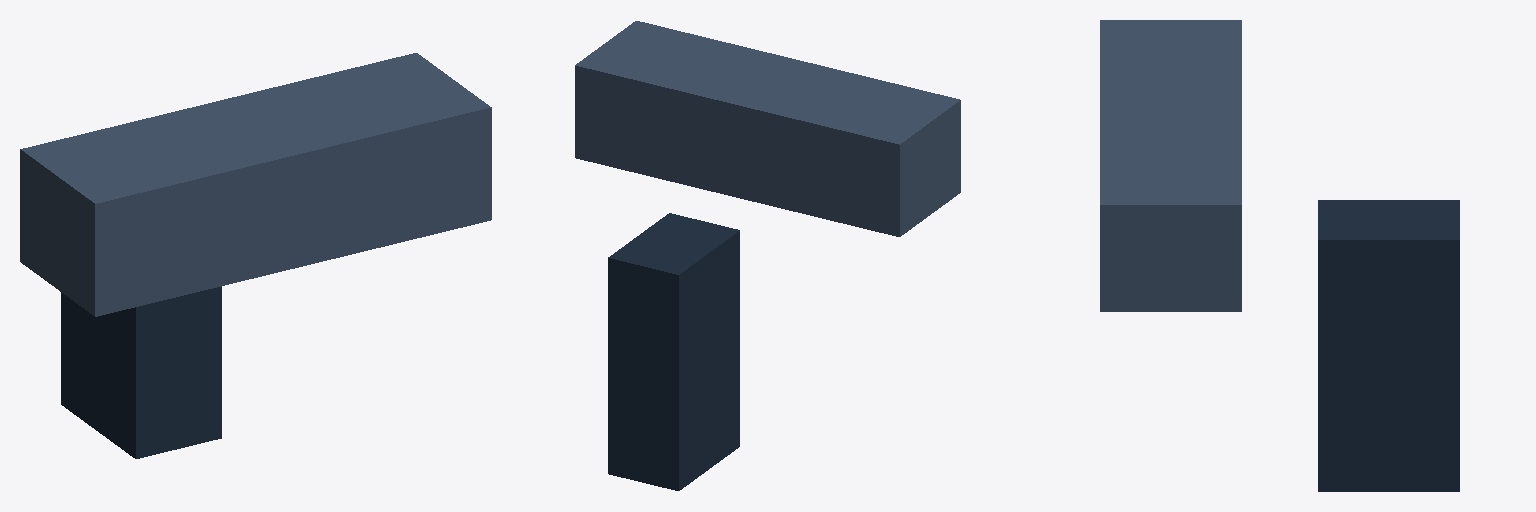
The robot description file, URDF, robot "cartesian_gripper":
<?xml version="1.0"?>
<robot name="cartesian_gripper">
  <material name="steel"><color rgba="0.32 0.39 0.47 1"/></material>
  <material name="finger"><color rgba="0.18 0.24 0.31 1"/></material>
  <link name="base"/>
  <link name="x_link"/>
  <joint name="x" type="prismatic"><parent link="base"/><child link="x_link"/><axis xyz="1 0 0"/><limit lower="-0.38" upper="0.38" effort="100" velocity="0.25"/></joint>
  <link name="y_link"/>
  <joint name="y" type="prismatic"><parent link="x_link"/><child link="y_link"/><axis xyz="0 1 0"/><limit lower="-0.26" upper="0.26" effort="100" velocity="0.25"/></joint>
  <link name="carriage"><visual><origin xyz="0 -0.055 0.065"/><geometry><box size="0.11 0.036 0.03"/></geometry><material name="steel"/></visual></link>
  <joint name="z" type="prismatic"><origin xyz="0 0 0.2"/><parent link="y_link"/><child link="carriage"/><axis xyz="0 0 1"/><limit lower="-0.175" upper="0.13" effort="100" velocity="0.25"/></joint>
  <link name="left_finger"><visual><origin xyz="0 0 0.015"/><geometry><box size="0.012 0.036 0.07"/></geometry><material name="finger"/></visual></link>
  <joint name="left" type="prismatic"><origin xyz="-0.006 0 0"/><parent link="carriage"/><child link="left_finger"/><axis xyz="-1 0 0"/><limit lower="0" upper="0.04" effort="6" velocity="0.1"/></joint>
  <link name="right_finger"><visual><origin xyz="0 0 0.015"/><geometry><box size="0.012 0.036 0.07"/></geometry><material name="finger"/></visual></link>
  <joint name="right" type="prismatic"><origin xyz="0.006 0 0"/><parent link="carriage"/><child link="right_finger"/><axis xyz="1 0 0"/><limit lower="0" upper="0.04" effort="6" velocity="0.1"/></joint>
  <link name="tcp"/>
  <joint name="tcp_fixed" type="fixed"><parent link="carriage"/><child link="tcp"/></joint>
</robot>

--- Render facts (derived) ---
Views: 3 orthographic renders of the robot side by side, from view 1: azimuth 30°, elevation 25°; view 2: azimuth 150°, elevation 25°; view 3: azimuth 270°, elevation 25°.
Robot: cartesian_gripper — 7 links, 6 joints (5 prismatic, 1 fixed); root link base; default pose: all joints at 0.
Visible links, largest first — view 1: carriage, left_finger, right_finger; view 2: carriage, left_finger, right_finger; view 3: carriage, right_finger, left_finger.
Link boxes in pixels (x1,y1,x2,y2): carriage: (20, 53, 491, 316); left_finger: (61, 292, 178, 458); right_finger: (179, 286, 221, 448); carriage: (575, 21, 960, 236); left_finger: (643, 222, 739, 490); right_finger: (608, 213, 704, 482); carriage: (1100, 20, 1241, 311); right_finger: (1318, 220, 1459, 491); left_finger: (1318, 200, 1459, 219).
Bounding box of the posed robot: 0.11 × 0.091 × 0.1 m (x, y, z).
Geometry: primitives only (box / cylinder / sphere), no mesh files.
